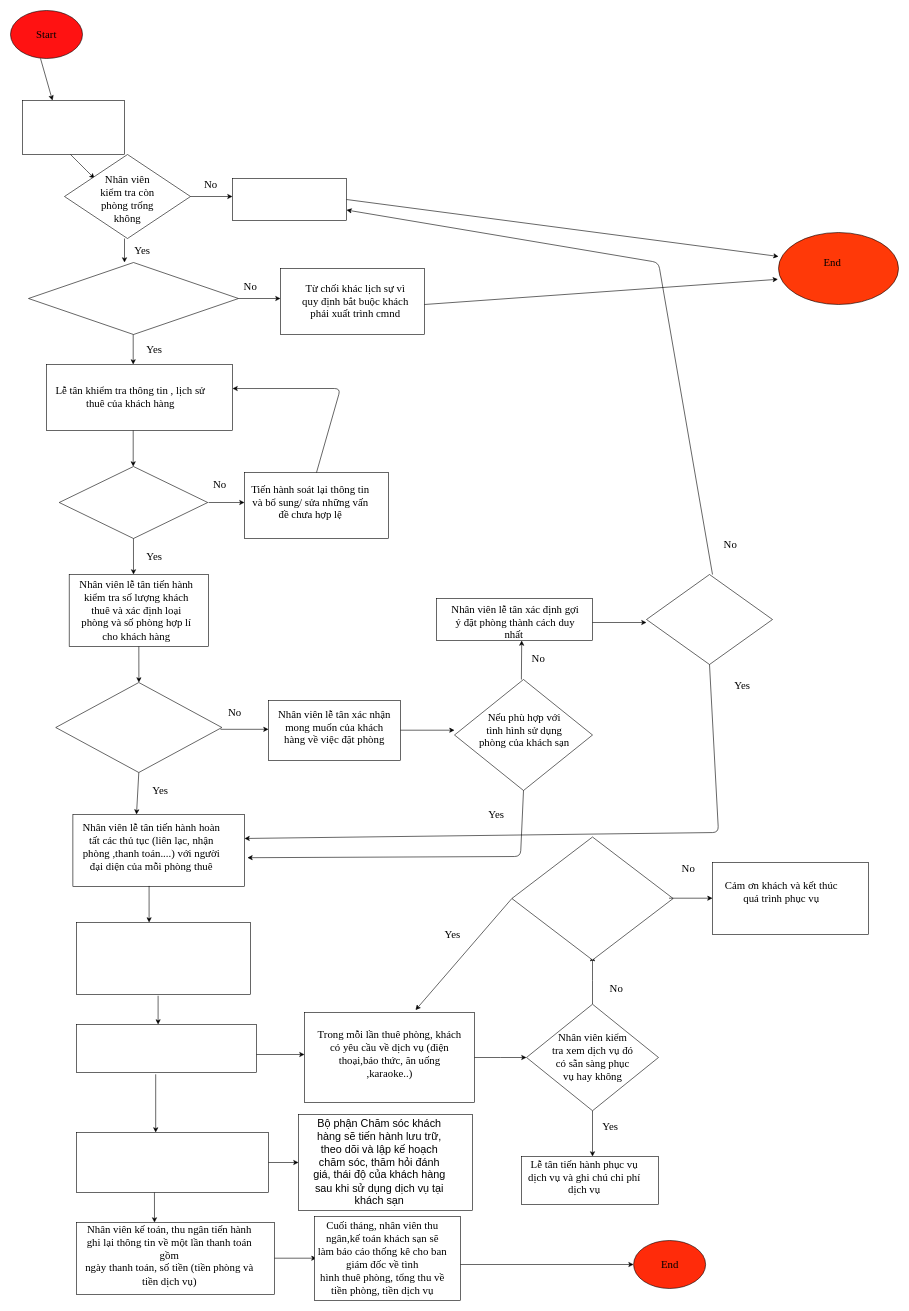
The diagram is 909 pixels wide and 1311 high, and some of its shapes have lost their labels. The shapes that lost their labels are listed below. From the top down, each one's centre as x and y in pixels, then its label:
At (73,127): "Khách hỏi đặt phòng".
At (289,199): "Từ chối khách lịch sự vì hết phòng".
At (133,298): "Lễ tân báo khách hàng xuất trình cmnd và số lượng khách thuê".
At (133,502): "Nếu mọi thông tin hợp lệ".
At (709,619): "Xác định sự đồng ý của khách hàng".
At (138,727): "Khách hàng đồng ý với gợi ý của nhân viên".
At (592,898): "Thông báo với khách và hỏi khách còn muốn dịch vụ nào khác không".
At (163,958): "Nhân viên lễ tân tiến hành lưu lại các khách hàng khác ứng với lần thuê đó".
At (166,1048): "Khách hàng nhận phòng và trải nghiệm".
At (172,1162): "Khách hàng kết thúc thuê phòng, trả phòng và tiến hành thanh toán".
